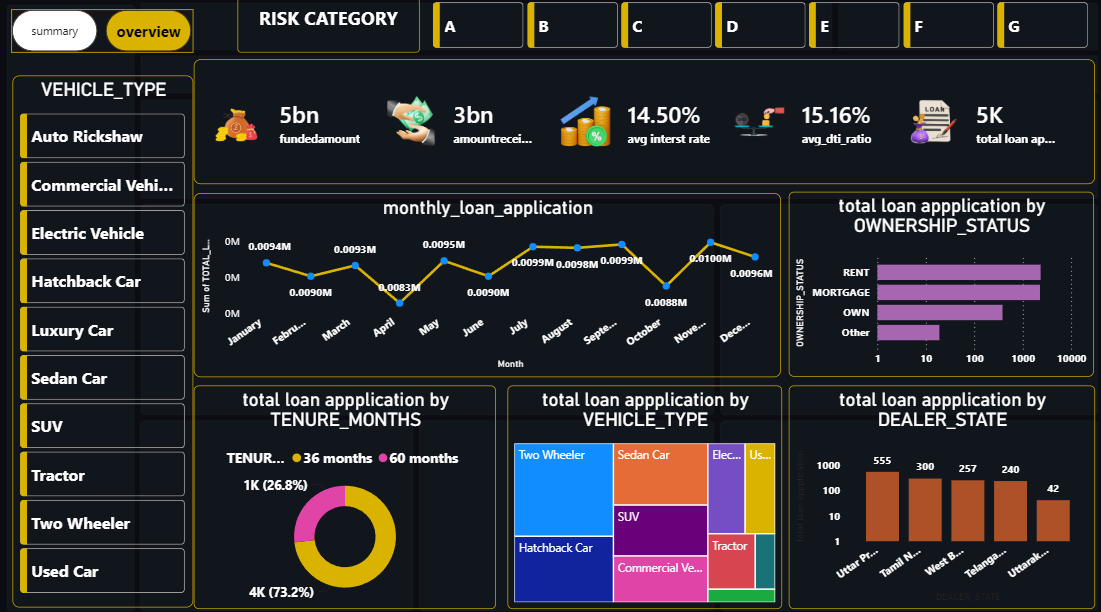

The dashboard page shown, as its layout file describes it:
{"tool":"powerbi","page":{"name":"overview","canvas":[1280,720],"ordinal":1},"visuals":[{"type":"cardVisual","fields":{"Data":["Vehicle_Loan_Data.total_funded_amount","Vehicle_Loan_Data.total_amount_received","Vehicle_Loan_Data.avg interst rate","Vehicle_Loan_Data.avg_dti","Vehicle_Loan_Data.total loan appplication"]},"box":[225.4,70.4,1045.1,145.1],"z":0},{"type":"advancedSlicerVisual","fields":{"Values":["Vehicle_Loan_Data.VEHICLE_TYPE"]},"box":[14.1,90.1,209.9,616.9],"z":1000},{"type":"advancedSlicerVisual","fields":{"Values":["Vehicle_Loan_Data.RISK_CATEGORY"]},"box":[497.2,0,770.4,63.4],"z":2000},{"type":"pageNavigator","box":[12.7,12.7,211.3,50.7],"z":3000},{"type":"lineChart","title":"monthly_loan_application","fields":{"Category":["Vehicle_Loan_Data.LOAN_DISBURSAL_DATE.Variation.Date Hierarchy.Month"],"Y":["Sum(Vehicle_Loan_Data.TOTAL_LOAN_ACCOUNTS)"]},"box":[224.4,225.6,680.6,213.2],"z":4000},{"type":"donutChart","fields":{"Category":["Vehicle_Loan_Data.TENURE_MONTHS"],"Y":["Vehicle_Loan_Data.total loan appplication"]},"box":[225.4,449.3,350.7,259.2],"z":5000},{"type":"clusteredBarChart","fields":{"Category":["Vehicle_Loan_Data.OWNERSHIP_STATUS"],"Y":["Vehicle_Loan_Data.total loan appplication"]},"box":[914.1,225.4,353.5,214.1],"z":6000},{"type":"treemap","fields":{"Group":["Vehicle_Loan_Data.VEHICLE_TYPE"],"Values":["Vehicle_Loan_Data.total loan appplication"]},"box":[588.7,449.3,318.3,259.2],"z":7000},{"type":"columnChart","fields":{"Category":["Vehicle_Loan_Data.DEALER_STATE"],"Y":["Vehicle_Loan_Data.total loan appplication"]},"box":[914.1,449.3,354.9,259.2],"z":8000},{"type":"textbox","box":[276.1,0,211.3,63.4],"z":9000}]}

Visuals, with their boxes in screenshot pixels (x1, y1, x2, y2), scaled from the page's 1280x720 canvas onto the 1101x612 screenshot:
cardVisual - Vehicle_Loan_Data.total_funded_amount x Vehicle_Loan_Data.total_amount_received: [194,60,1093,183]
advancedSlicerVisual - Vehicle_Loan_Data.VEHICLE_TYPE: [12,77,193,601]
advancedSlicerVisual - Vehicle_Loan_Data.RISK_CATEGORY: [428,0,1090,54]
pageNavigator: [11,11,193,54]
"monthly_loan_application" lineChart: [193,192,778,373]
donutChart - Vehicle_Loan_Data.TENURE_MONTHS x Vehicle_Loan_Data.total loan appplication: [194,382,496,602]
clusteredBarChart - Vehicle_Loan_Data.OWNERSHIP_STATUS x Vehicle_Loan_Data.total loan appplication: [786,192,1090,374]
treemap - Vehicle_Loan_Data.VEHICLE_TYPE x Vehicle_Loan_Data.total loan appplication: [506,382,780,602]
columnChart - Vehicle_Loan_Data.DEALER_STATE x Vehicle_Loan_Data.total loan appplication: [786,382,1092,602]
textbox: [237,0,419,54]
